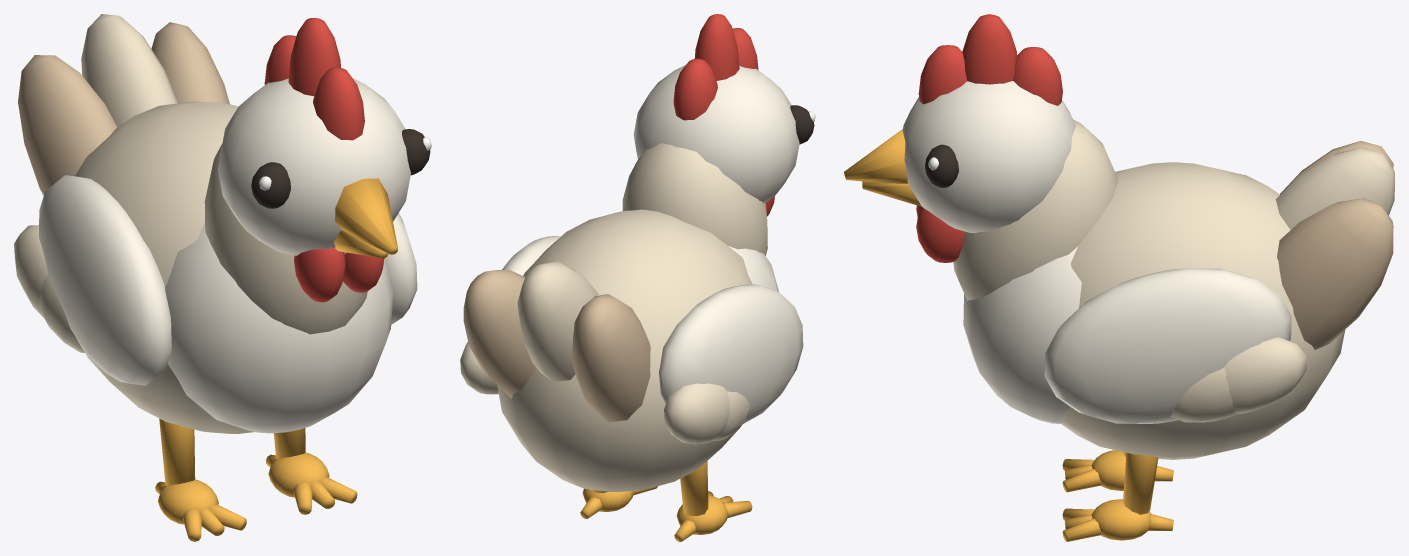
The model's file is asset.glb.
3 views of the same model, side by side, from view 1: azimuth 30°, elevation 25°; view 2: azimuth 150°, elevation 25°; view 3: azimuth 270°, elevation 25° (orthographic). The views are drawn at different scales.
Visible parts, largest first — view 1: Breast, Head, Wing_L, Body, Neck, Tail_00, Tail_01, Tail_02, BeakUpper, Comb_0, Comb_1, Wattle_L (+16 smaller); view 2: Body, Wing_L, Head, Neck, Tail_00, Tail_01, Tail_02, WingFeather_L1, Comb_1, Comb_2, Shin_L, Foot_L (+7 smaller); view 3: Body, Wing_R, Head, Tail_02, Breast, Neck, Tail_01, WingFeather_R1, Comb_1, WingFeather_R0, Comb_2, BeakUpper (+8 smaller).
Part boxes in pixels (x1,y1,x2,y2): Breast: (165, 222, 393, 433); Head: (218, 78, 410, 255); Wing_L: (39, 175, 171, 385); Body: (75, 101, 253, 433); Neck: (204, 144, 367, 334); Tail_00: (18, 55, 117, 195); Tail_01: (81, 14, 177, 127); Tail_02: (151, 22, 229, 104); BeakUpper: (335, 178, 397, 254); Comb_0: (313, 67, 364, 140); Comb_1: (288, 17, 340, 96); Wattle_L: (294, 248, 345, 302); Body: (497, 209, 752, 491); Wing_L: (659, 284, 803, 423); Head: (633, 65, 799, 203); Neck: (622, 143, 767, 255); Tail_00: (571, 294, 650, 422); Tail_01: (517, 261, 598, 381); Tail_02: (463, 269, 534, 398); WingFeather_L1: (664, 383, 729, 444); Comb_1: (694, 14, 739, 80); Comb_2: (673, 58, 717, 120); Shin_L: (680, 461, 708, 515); Foot_L: (676, 495, 728, 534); Body: (1061, 162, 1345, 459); Wing_R: (1044, 268, 1291, 423); Head: (902, 81, 1075, 233); Tail_02: (1277, 198, 1393, 349); Breast: (963, 246, 1081, 423); Neck: (953, 119, 1117, 300); Tail_01: (1275, 147, 1394, 229); WingFeather_R1: (1224, 337, 1306, 413); Comb_1: (962, 14, 1017, 84); WingFeather_R0: (1171, 367, 1238, 422); Comb_2: (1013, 47, 1062, 105); BeakUpper: (844, 129, 908, 183).
Size of the model in its own units: 1.31 by 2.25 by 2.25.
